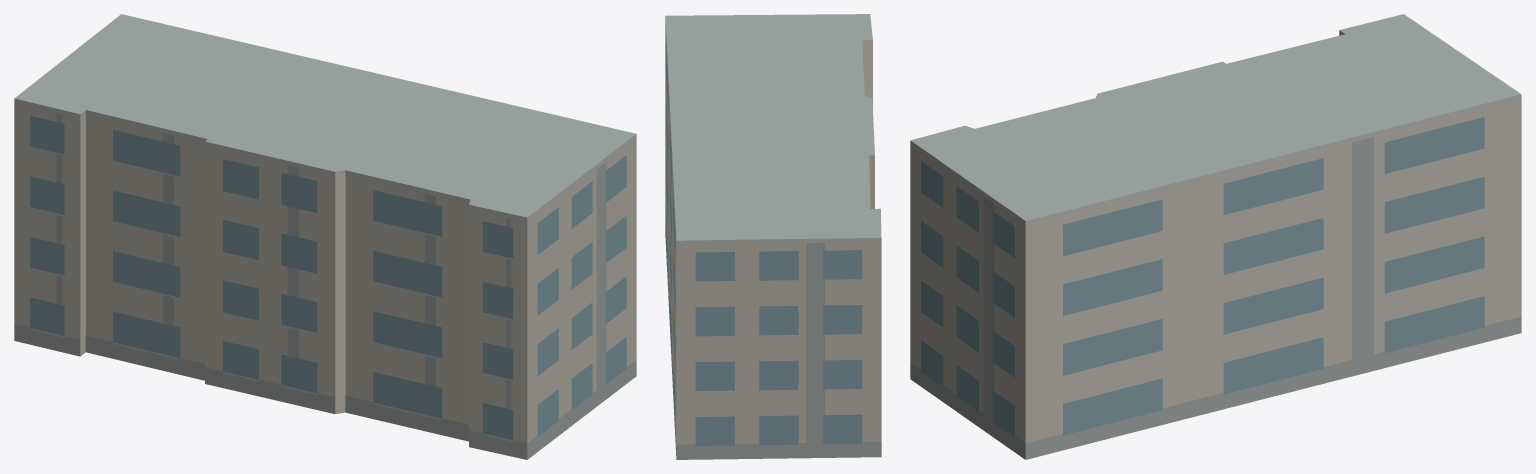
File: survey-upis-32923738.glb
3 views of the same model, side by side, from view 1: azimuth 30°, elevation 25°; view 2: azimuth 150°, elevation 25°; view 3: azimuth 270°, elevation 25° (orthographic). The views are drawn at different scales.
Parts seen in each view (by area): view 1: survey-upis-32923738.tmp; view 2: survey-upis-32923738.tmp; view 3: survey-upis-32923738.tmp.
Part boxes in pixels (x1,y1,x2,y2): survey-upis-32923738.tmp: [14, 14, 636, 459]; survey-upis-32923738.tmp: [665, 14, 881, 459]; survey-upis-32923738.tmp: [910, 14, 1521, 459].
Bounding box in the file's own units: 22.69 × 12.2 × 28.3.
